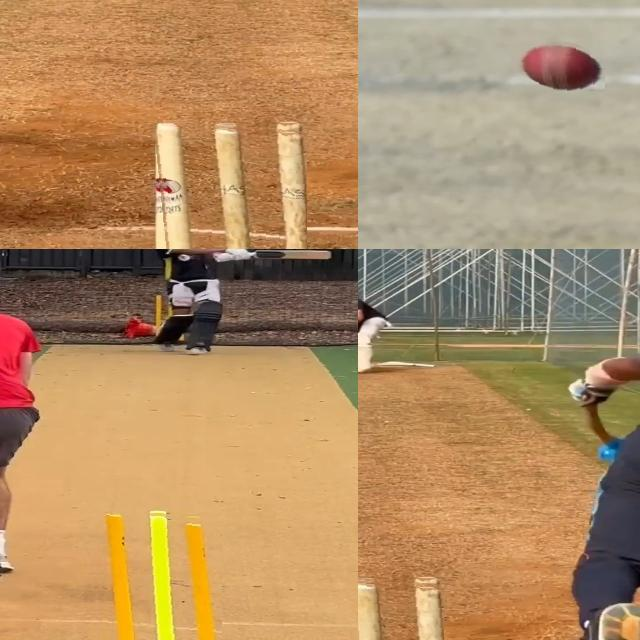Cricket ball: (514, 37, 605, 91)
Stumps: (153, 120, 307, 249), (89, 508, 222, 640), (358, 573, 443, 640)
